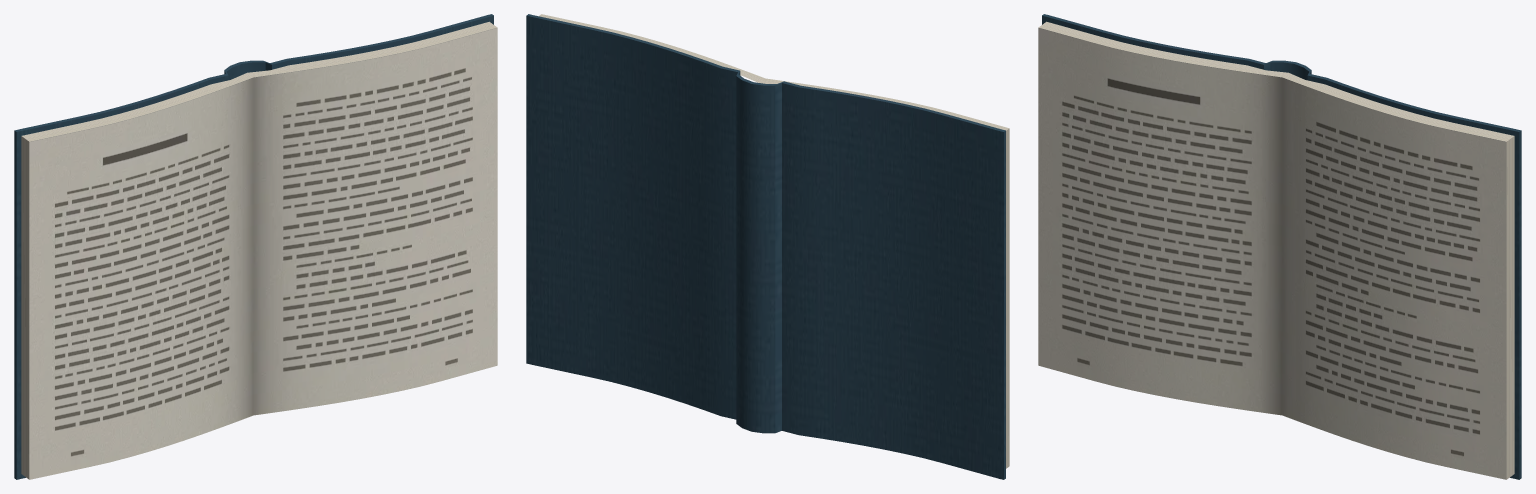
Rendered from book_open.glb.
The picture shows the model from 3 angles, left to right: view 1: azimuth 30°, elevation 25°; view 2: azimuth 150°, elevation 25°; view 3: azimuth 330°, elevation 25°; orthographic projection.
Parts seen in each view (by area): view 1: book_open.001; view 2: book_open.001; view 3: book_open.001.
Boxes of the visible parts, x1,y1,x2,y2 form: book_open.001: [14, 14, 497, 479]; book_open.001: [526, 14, 1009, 479]; book_open.001: [1038, 14, 1521, 479].
Size of the model in its own units: 0.306 by 0.213 by 0.0291.
1 material, 1 textured.
